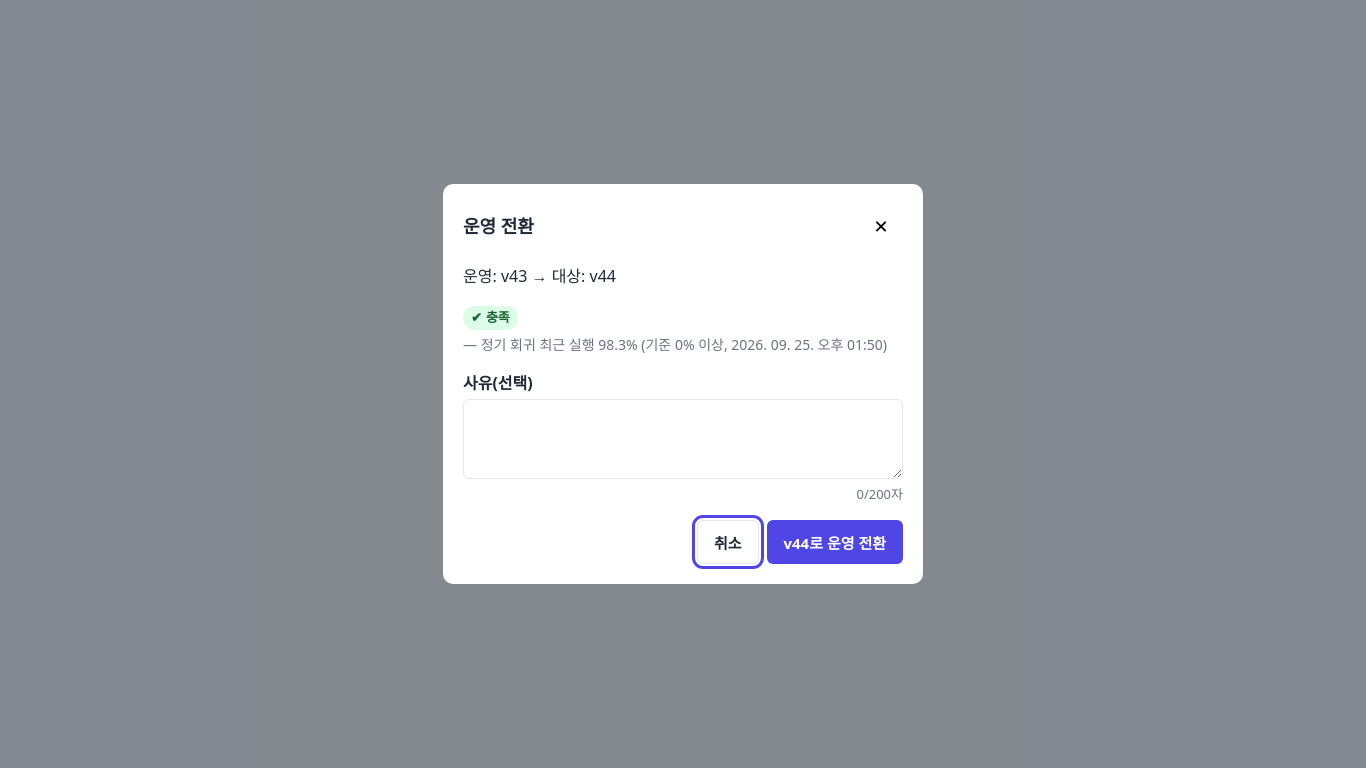
Scenario: ProdSwitchDialog › ENV_SWITCH_BUSY 409면 배너를 띄우고 자동 재확인한다(재시도 가능)
What coordinates should you click on to do the following:
click the button "v44로 운영 전환"
I would click on:
 (835, 542)
Its box is [766, 520, 903, 564].
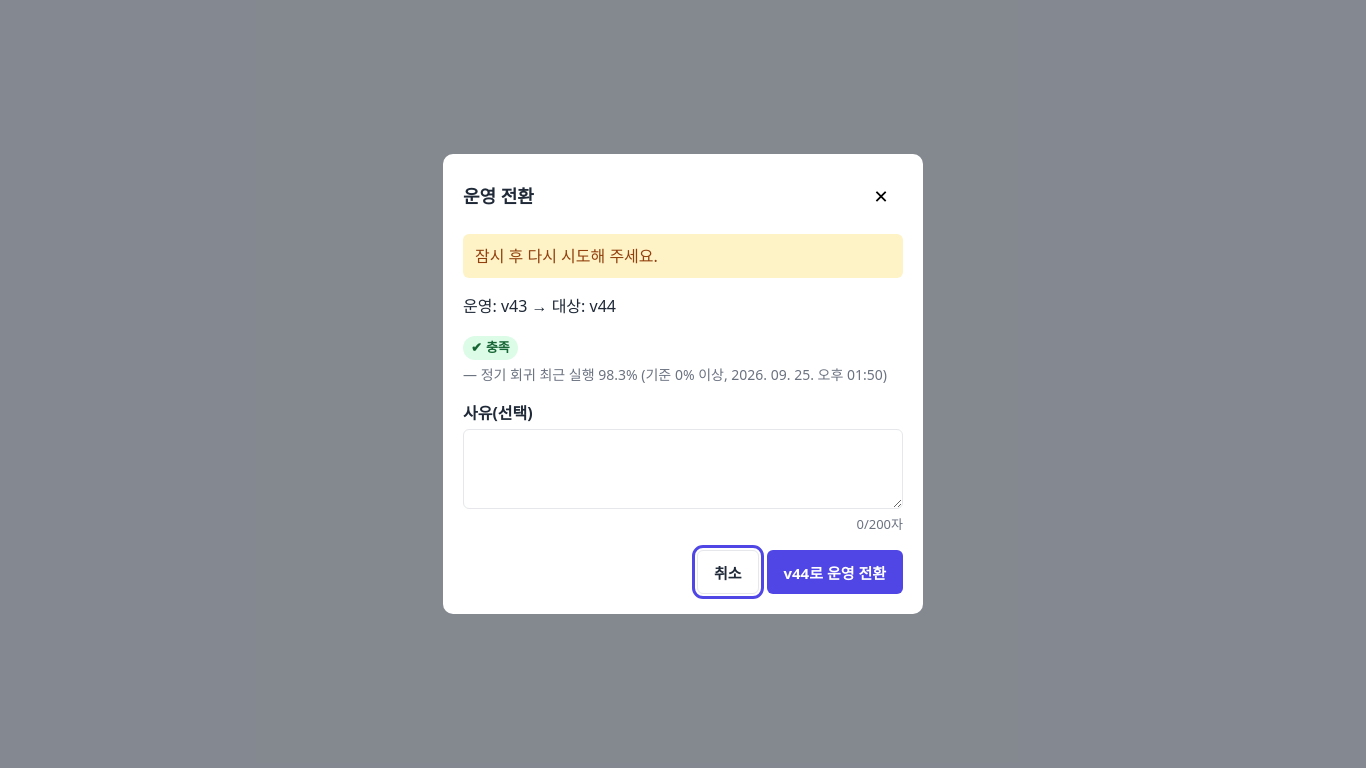
Expected: the text "잠시 후 다시 시도해 주세요." is shown, [463, 234, 903, 278]
